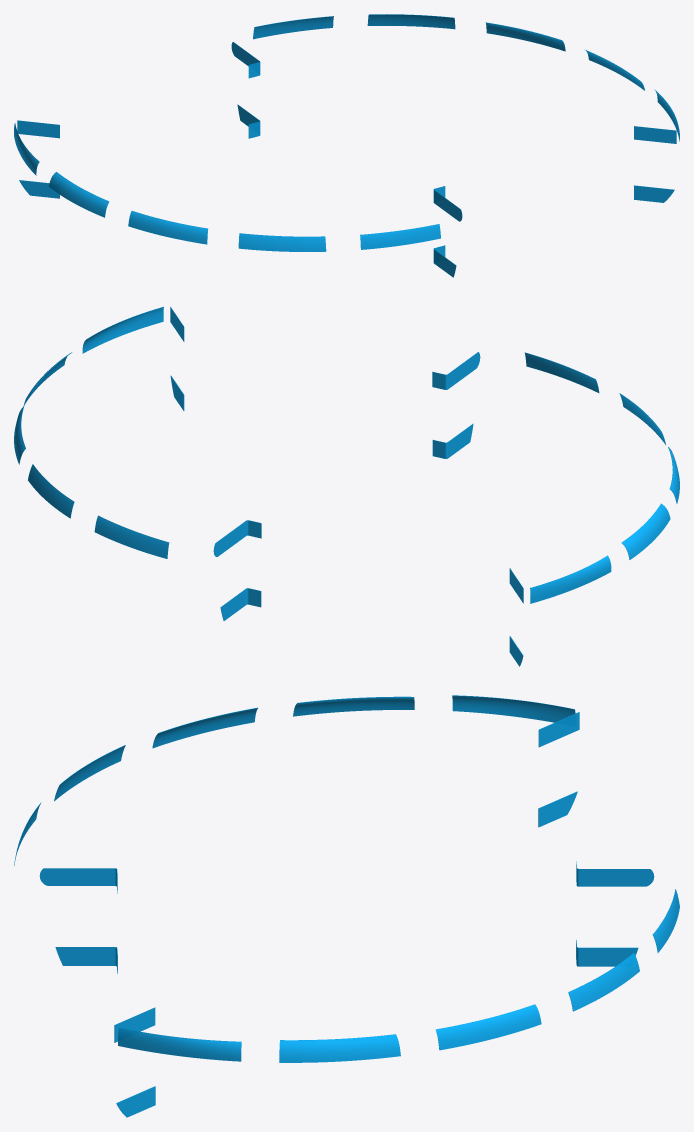
The model's file is Railings.fbx.
The picture shows the model from 3 angles, top to bottom: view 1: azimuth 30°, elevation 25°; view 2: azimuth 150°, elevation 25°; view 3: azimuth 270°, elevation 25°; orthographic projection. The views are drawn at different scales.
Parts seen in each view (by area): view 1: Railings; view 2: Railings; view 3: Railings.
Part boxes in pixels (<box>): Railings: <box>14,14,679,277</box>; Railings: <box>14,306,679,666</box>; Railings: <box>14,695,679,1117</box>.
Bounding box in the file's own units: 34.1 × 27.18 × 4.4.
